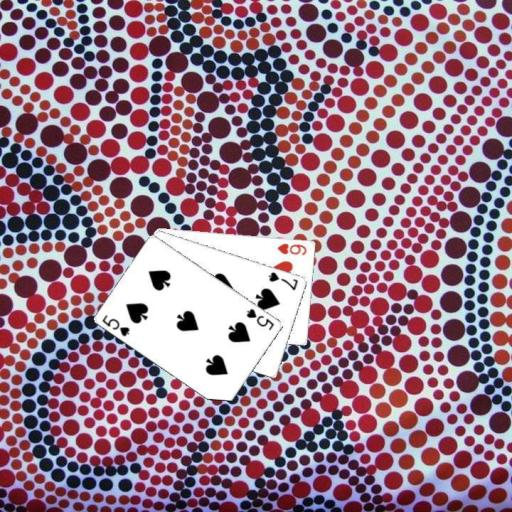card-corner: (100, 311, 132, 338), (243, 305, 276, 331), (266, 268, 300, 292), (274, 240, 308, 256)
